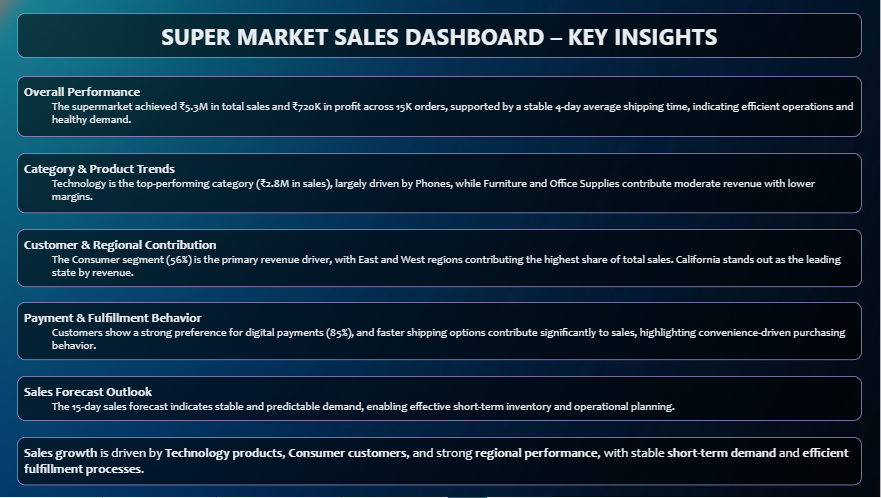

The page's visual inventory and layout, read from the dashboard file:
{"tool":"powerbi","page":{"name":"Key Insights","canvas":[1280,720],"ordinal":2},"visuals":[{"type":"textbox","box":[35.7,20,1207.1,64.3],"z":0},{"type":"textbox","box":[35.7,110,1207.1,87.1],"z":1000},{"type":"textbox","box":[35.7,219.7,1207.1,85.7],"z":2000},{"type":"textbox","box":[35.7,328,1207.1,82.9],"z":3000},{"type":"textbox","box":[35.7,538.9,1207.1,64.3],"z":4000},{"type":"textbox","box":[35.7,433.4,1207.1,82.9],"z":5000},{"type":"textbox","box":[35.7,625.7,1207.1,68.6],"z":6000}]}

Visuals, with their boxes in screenshot pixels (x1, y1, x2, y2), scaled from the page's 1280x720 canvas onto the 881x498 screenshot:
textbox: BBox(25, 14, 855, 58)
textbox: BBox(25, 76, 855, 136)
textbox: BBox(25, 152, 855, 211)
textbox: BBox(25, 227, 855, 284)
textbox: BBox(25, 373, 855, 417)
textbox: BBox(25, 300, 855, 357)
textbox: BBox(25, 433, 855, 480)
